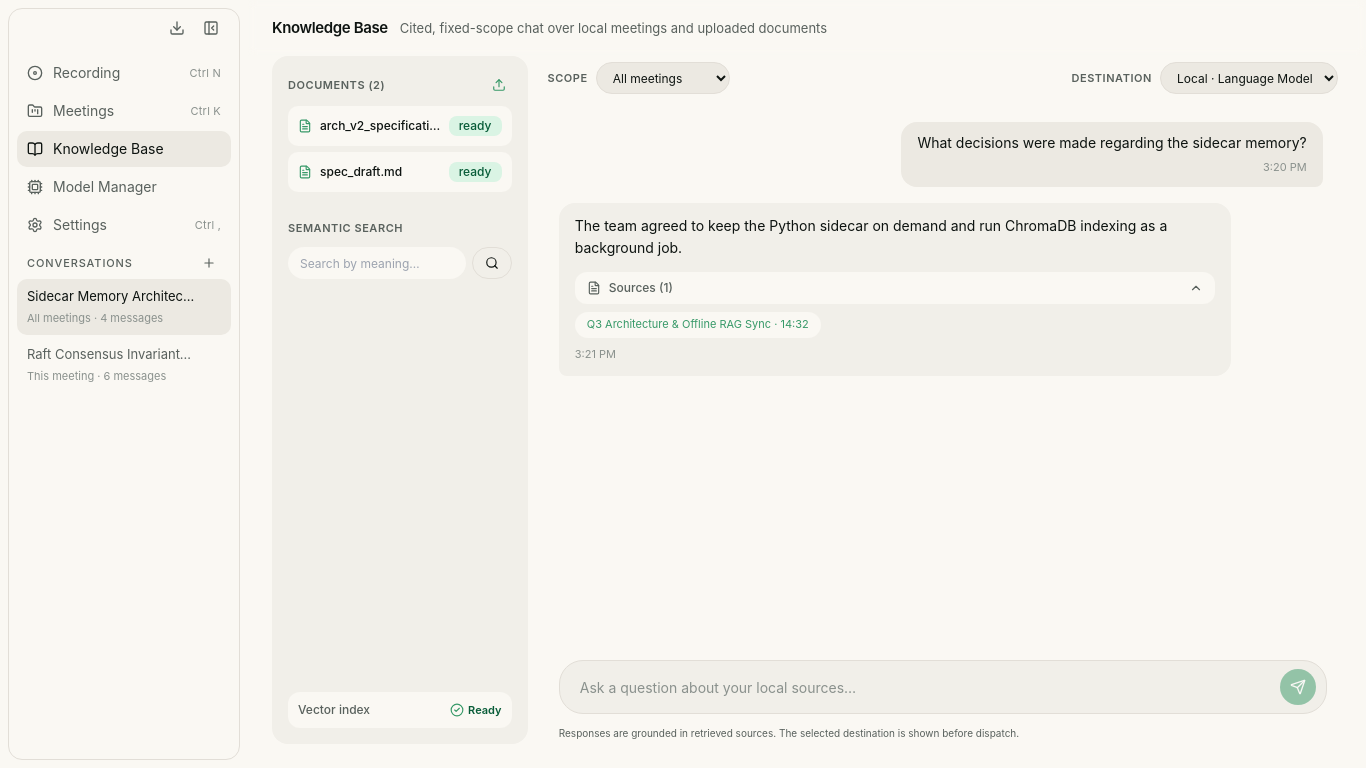
Test case: Round 4: conversation messages look like a chat, not full-width blocks › lists sources as chips under a collapsible 'Sources (N)' row
Expected: the button titled "Citation location" is shown, [575,312,821,338]
What coordinates should you click on to do the following:
click the button "Sources (1)"
I would click on:
 (636, 288)
Its box is [575,272,1215,304].
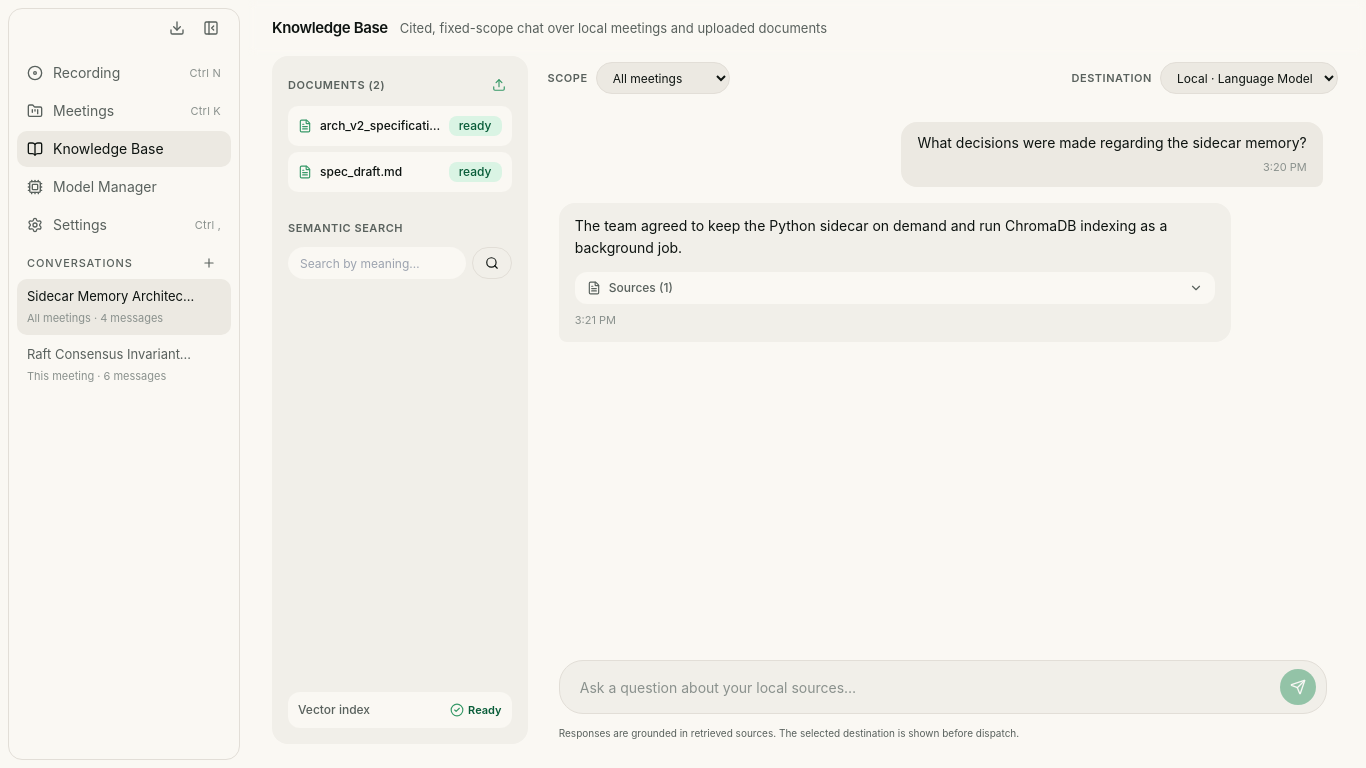
Result: the button "Sources (1)" is collapsed
What coordinates should you click on to do the following:
click the button "Sources (1)"
I would click on:
 (636, 288)
Its box is [575,272,1215,304].
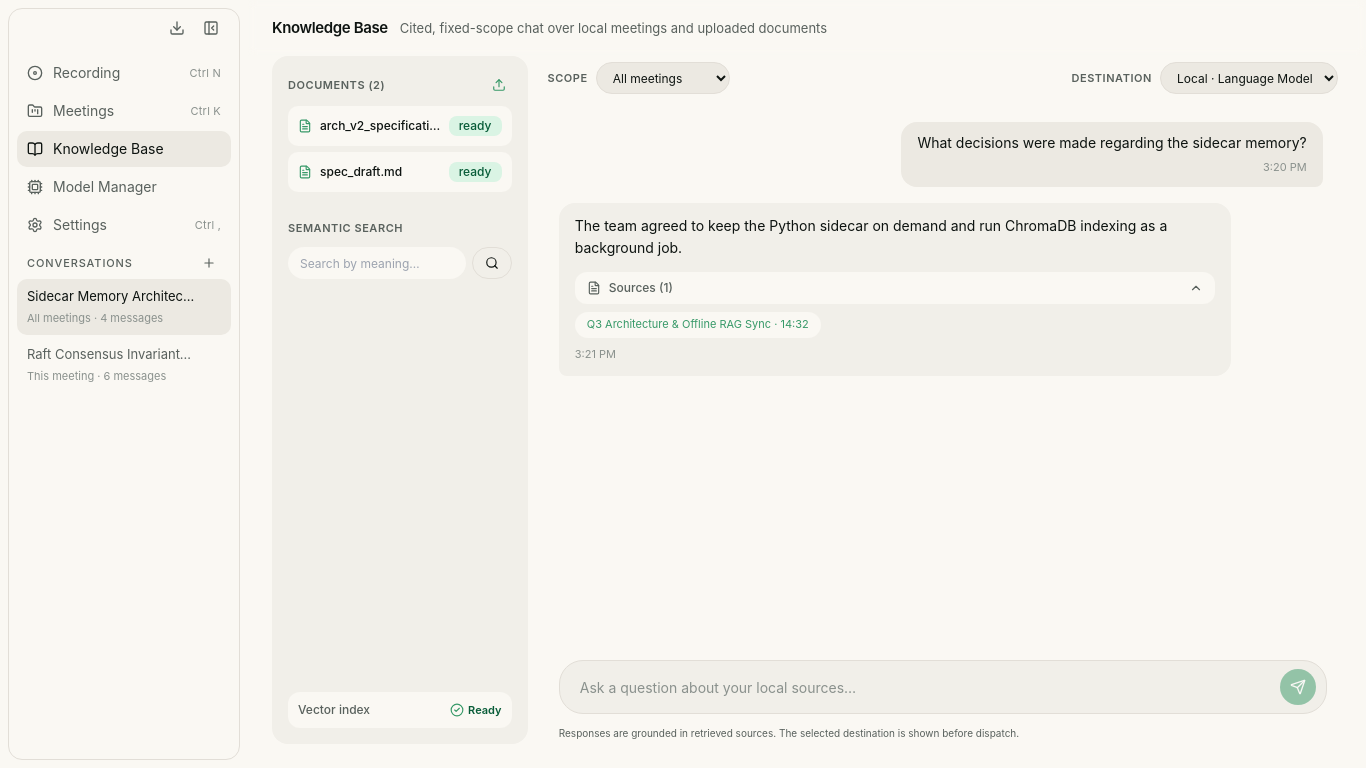
Result: the button titled "Citation location" is shown at [575,312,821,338]
